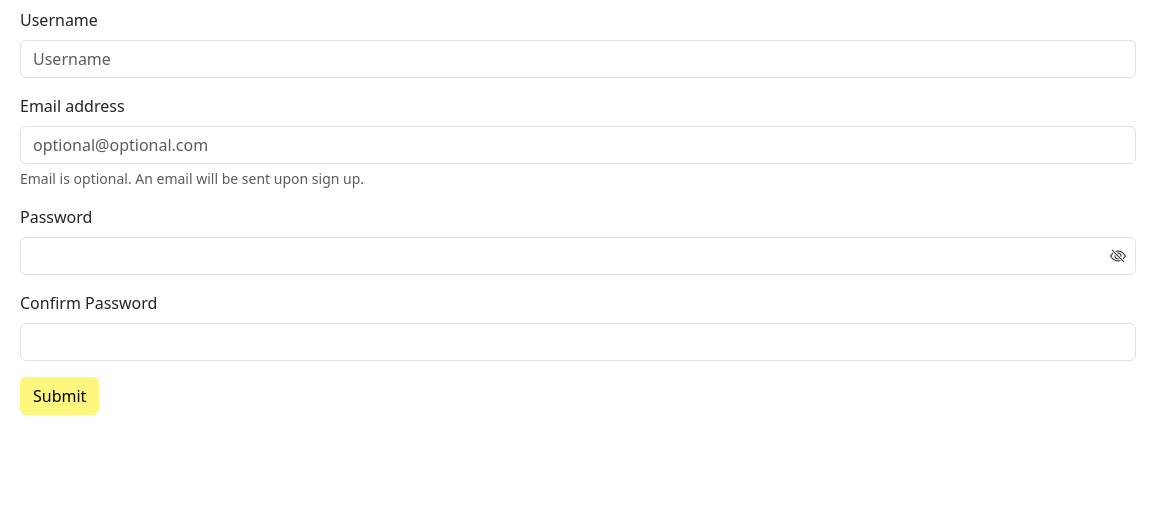
Test: Sign up › requires username
Click the button "Submit" at (60, 396), box 20,377 -> 99,415
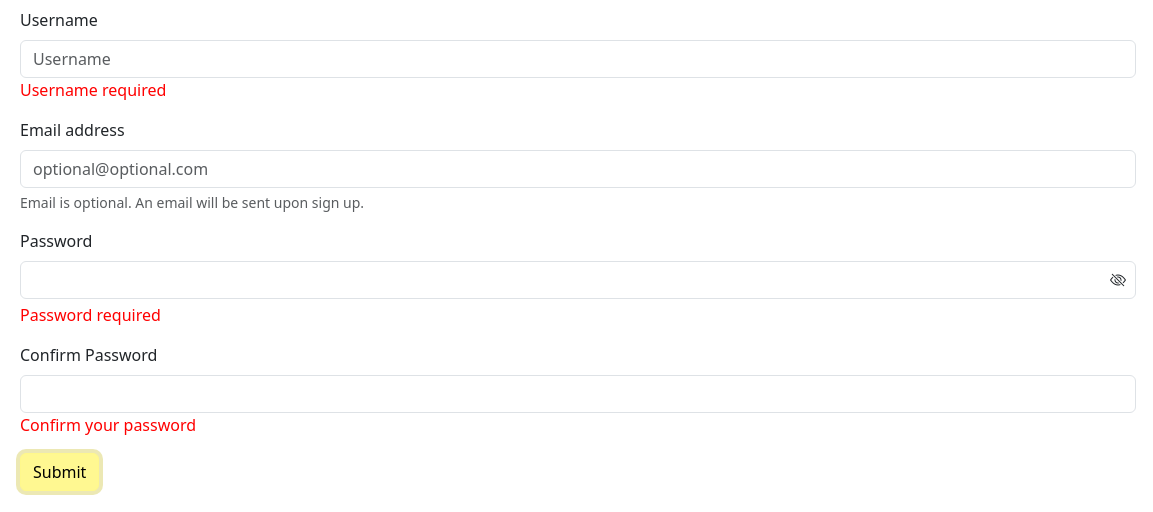
Check: the text "Username required" is shown, box 20,79 -> 166,101
